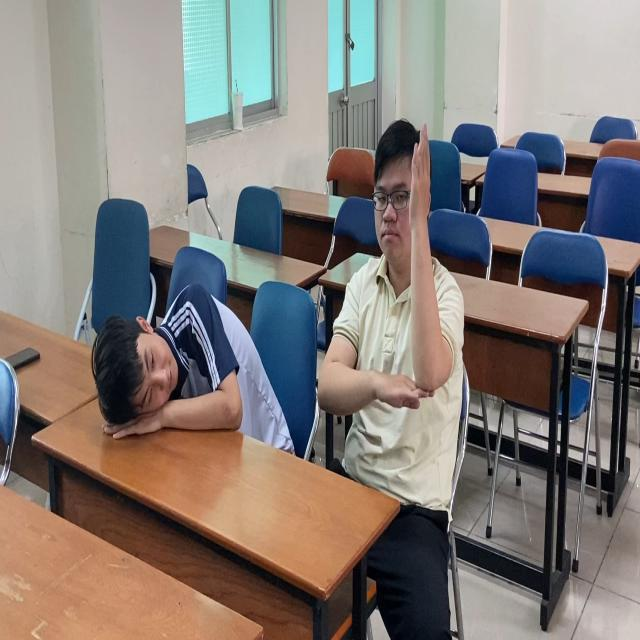raise_hand: (315, 118, 467, 510)
sleep: (80, 280, 300, 466)
